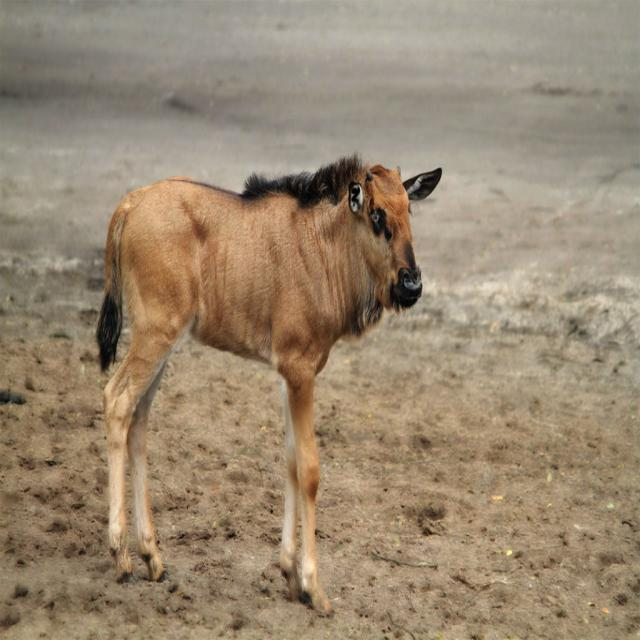Cattle: (91, 157, 443, 618)
